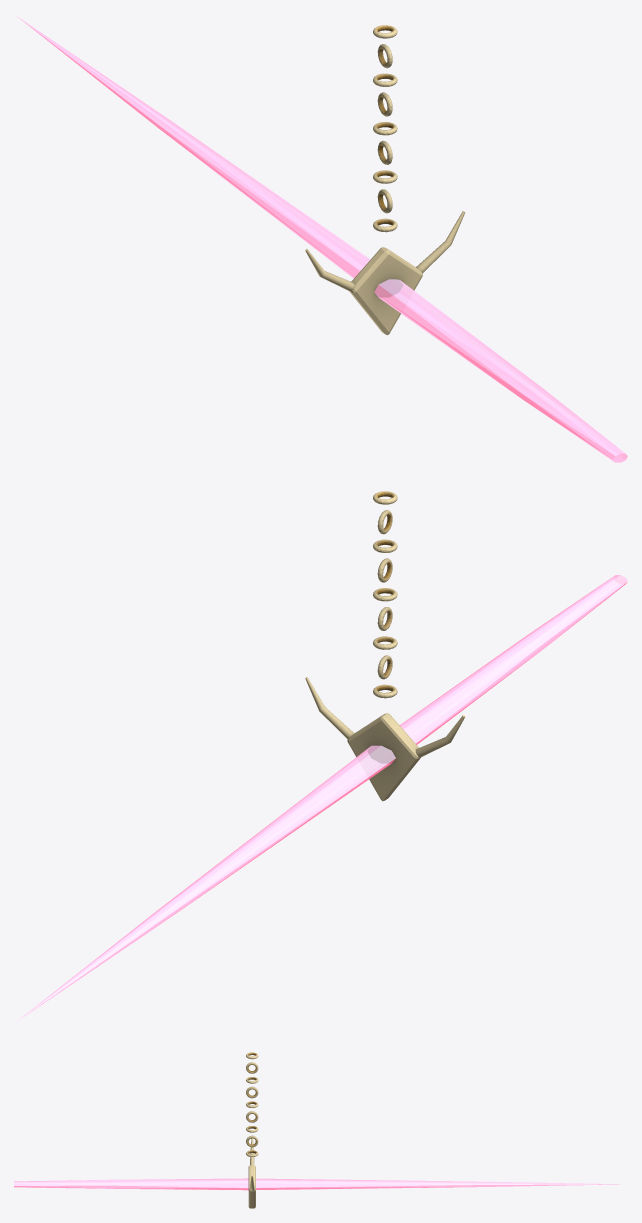
File: arma_talisma_bruxa_n3.glb
3 renders of one model, top to bottom at view 1: azimuth 30°, elevation 25°; view 2: azimuth 150°, elevation 25°; view 3: azimuth 270°, elevation 25°, orthographic. The views are drawn at different scales.
Parts seen in each view (by area): view 1: olho, arma_talisma_bruxa_n3; view 2: olho, arma_talisma_bruxa_n3; view 3: olho, arma_talisma_bruxa_n3.
Part boxes in pixels (left/top/right/bottom): olho: left=17, top=16, right=627, bottom=462; arma_talisma_bruxa_n3: left=305, top=25, right=465, bottom=335; olho: left=16, top=575, right=627, bottom=1021; arma_talisma_bruxa_n3: left=305, top=491, right=465, bottom=801; olho: left=14, top=1178, right=619, bottom=1190; arma_talisma_bruxa_n3: left=246, top=1052, right=258, bottom=1208.
Bounding box in the file's own units: 0.152 × 0.2768 × 1.
Materials: 2 (1 with a texture image).
